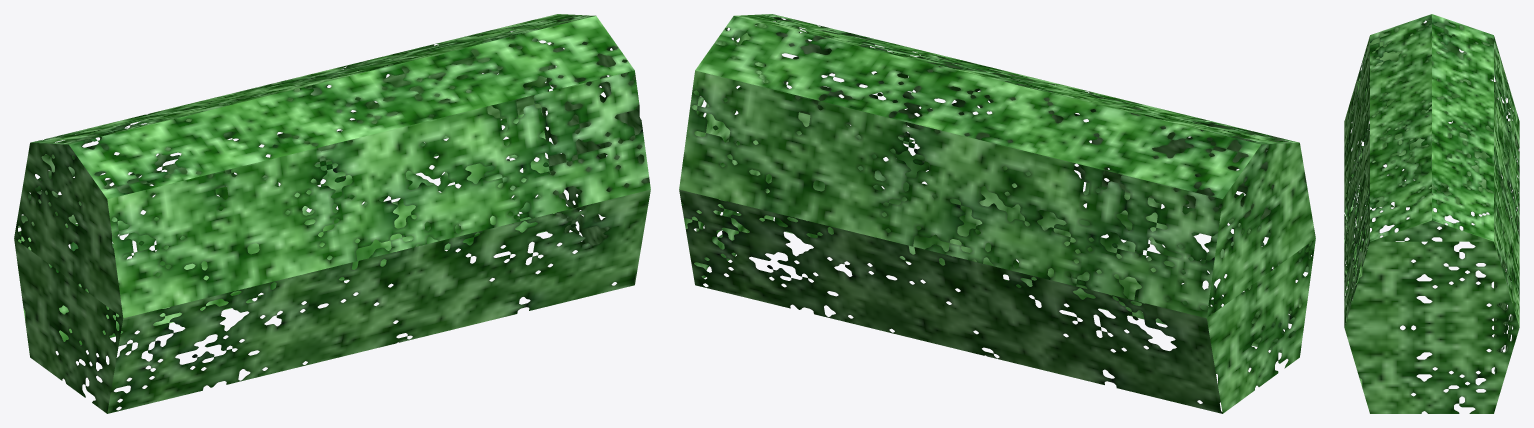
The model's file is bush_long_spring.fbx.
The picture shows the model from 3 angles, left to right: view 1: azimuth 30°, elevation 25°; view 2: azimuth 150°, elevation 25°; view 3: azimuth 270°, elevation 25°; orthographic projection. The views are drawn at different scales.
Visible parts, largest first — view 1: bush_long_spring; view 2: bush_long_spring; view 3: bush_long_spring.
Boxes of the visible parts, bbox=[...] form: bush_long_spring: bbox=[14, 14, 650, 413]; bush_long_spring: bbox=[679, 14, 1315, 413]; bush_long_spring: bbox=[1344, 14, 1519, 413].
Size of the model in its own units: 201 by 87.65 by 71.91.
1 material, 1 textured.
